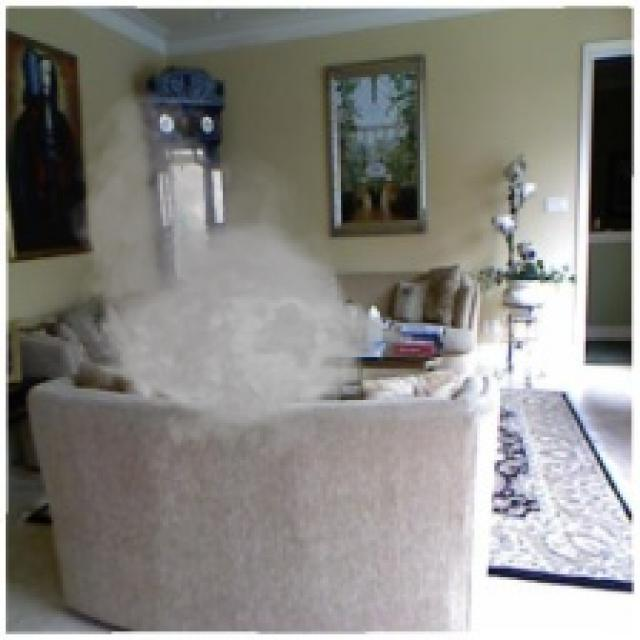Smoke: (59, 86, 432, 472)
